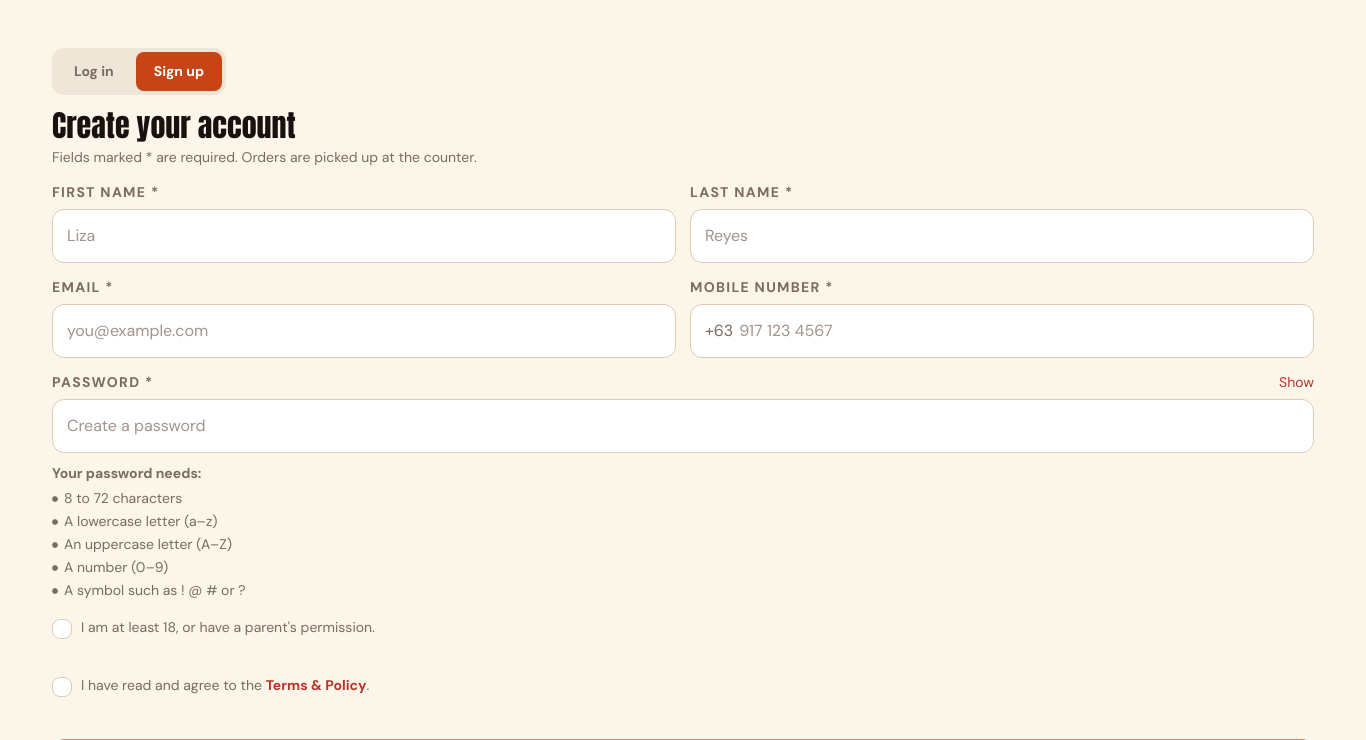
Test: sign-up › masks the mobile number as it is typed
In the field labelled "Mobile number *": coordinates (1023, 331) [733,305,1313,357], type "9626939019"
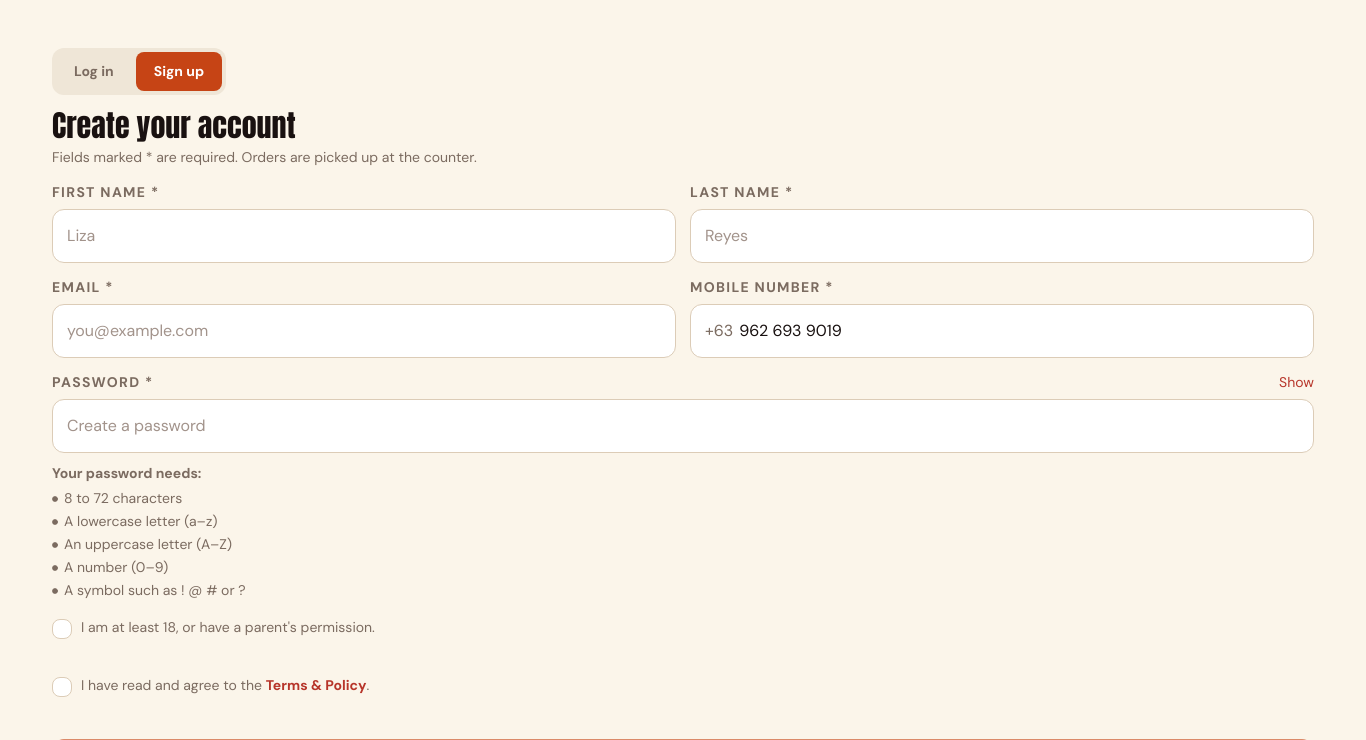
Expected: the field labelled "Mobile number *" holds "962 693 9019", [733,305,1313,357]
